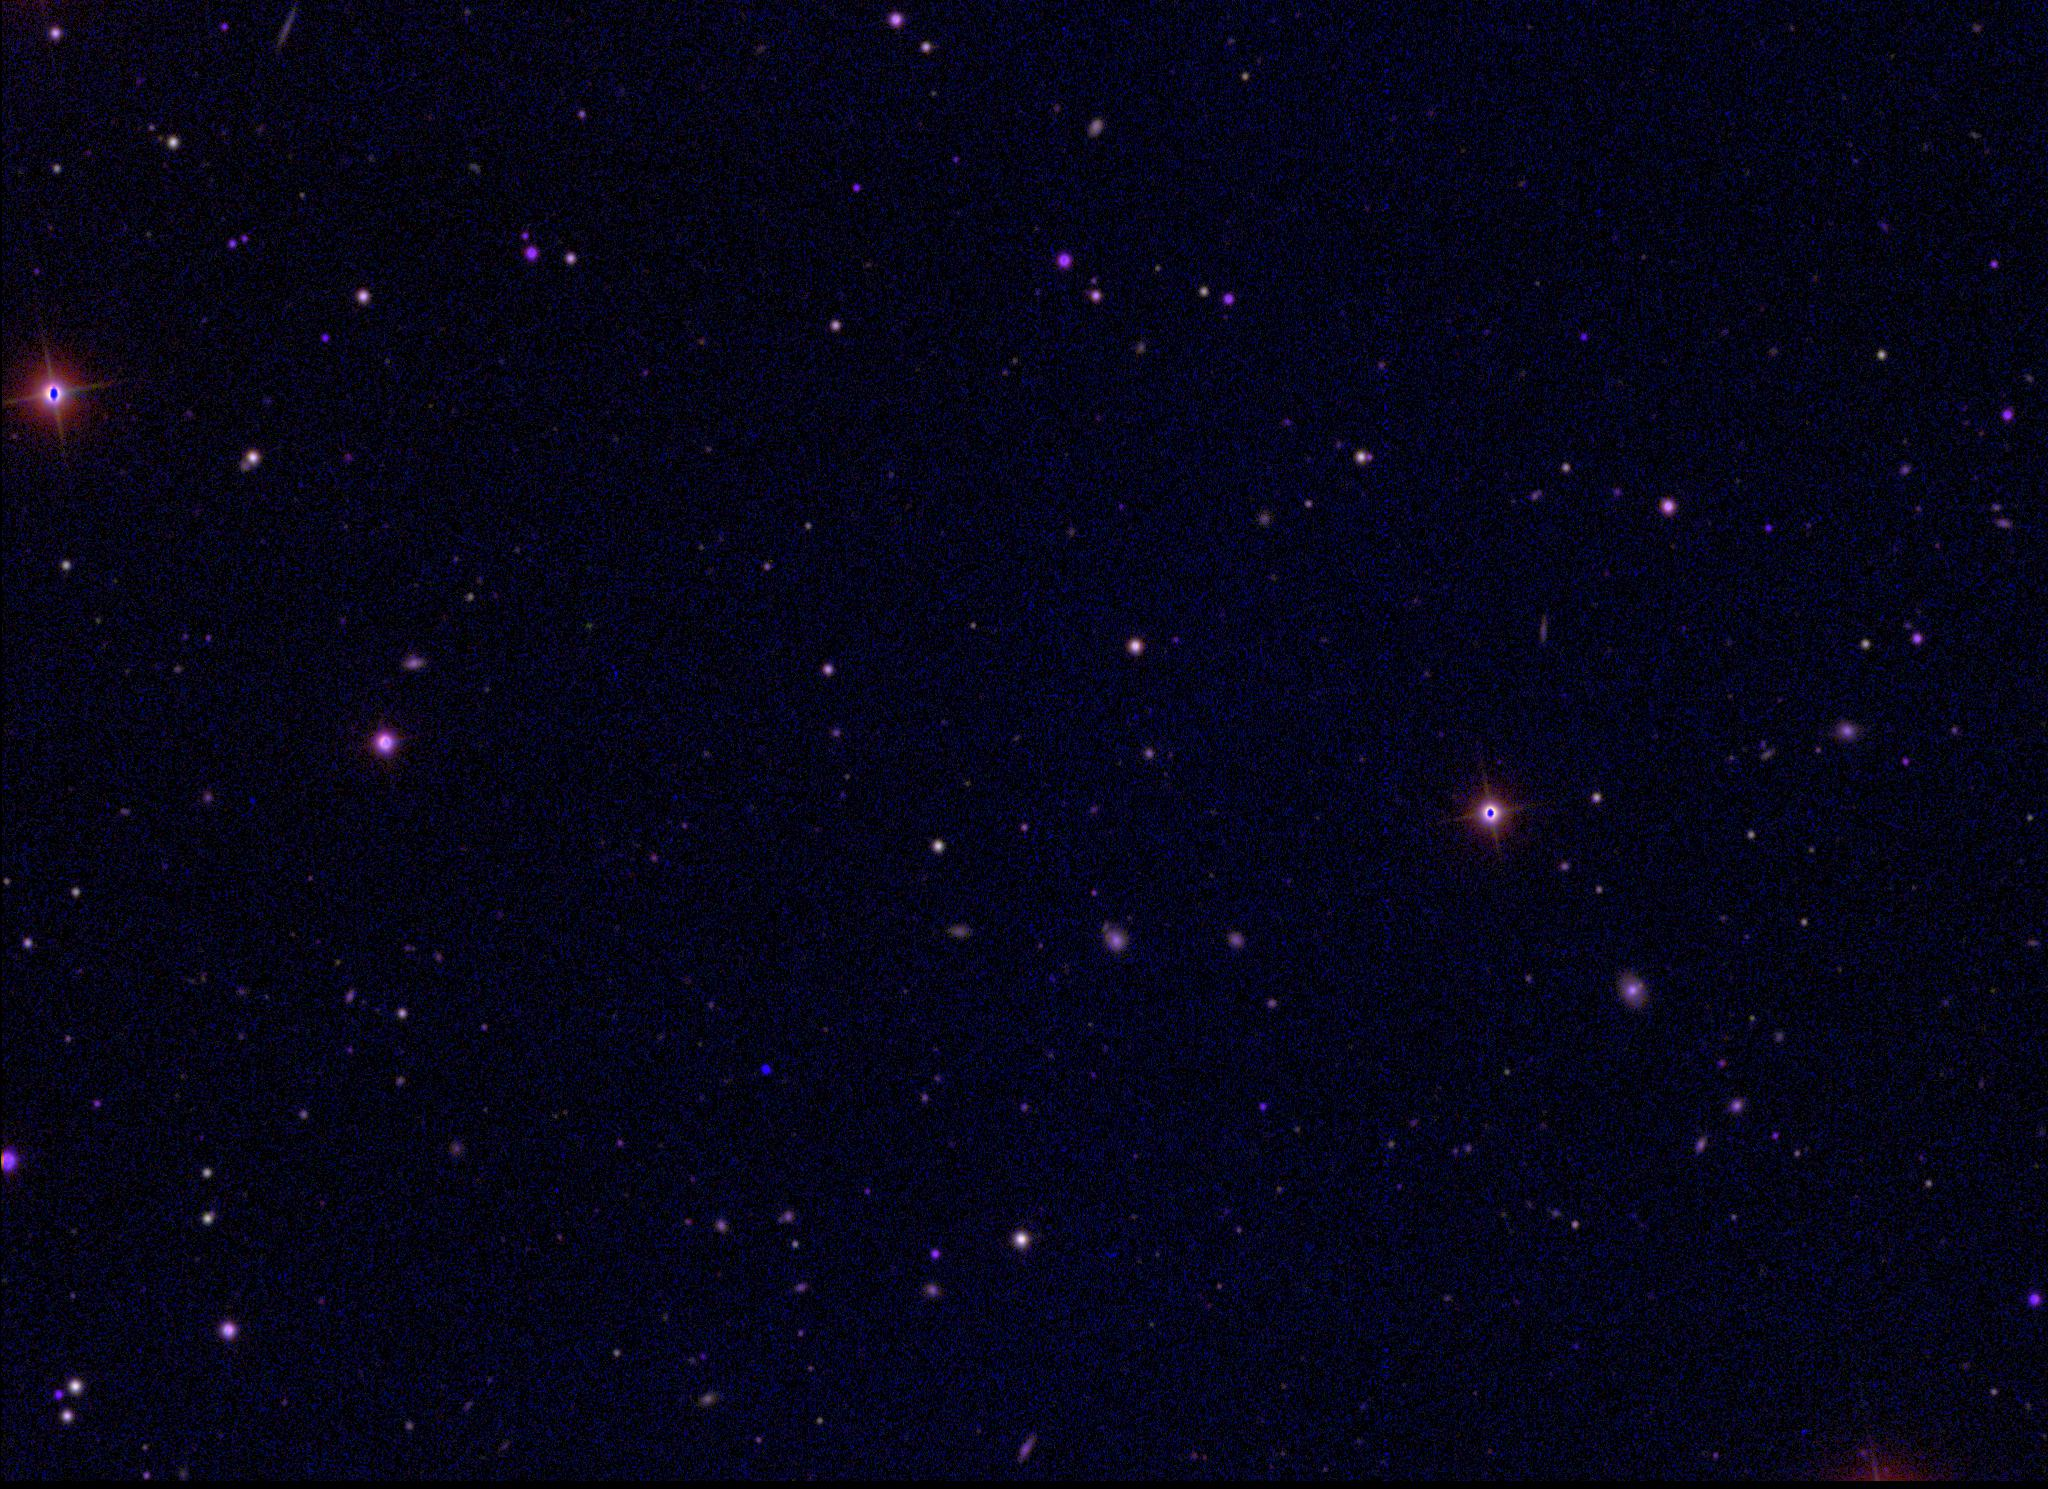L: (755, 1061, 770, 1075)
